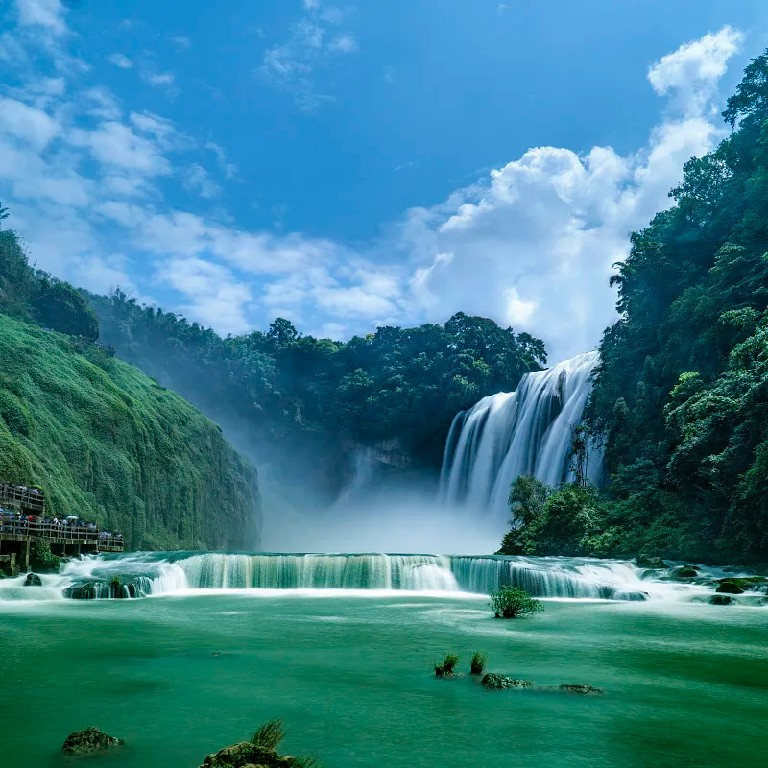Huangguoshu: (435, 351, 605, 559)
